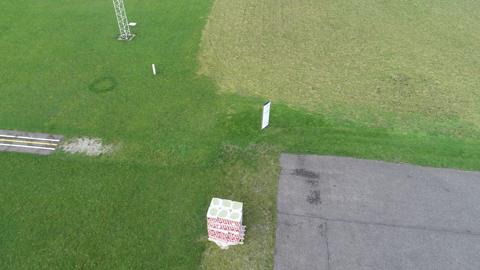RockwoolPallet: (204, 197, 245, 242)
